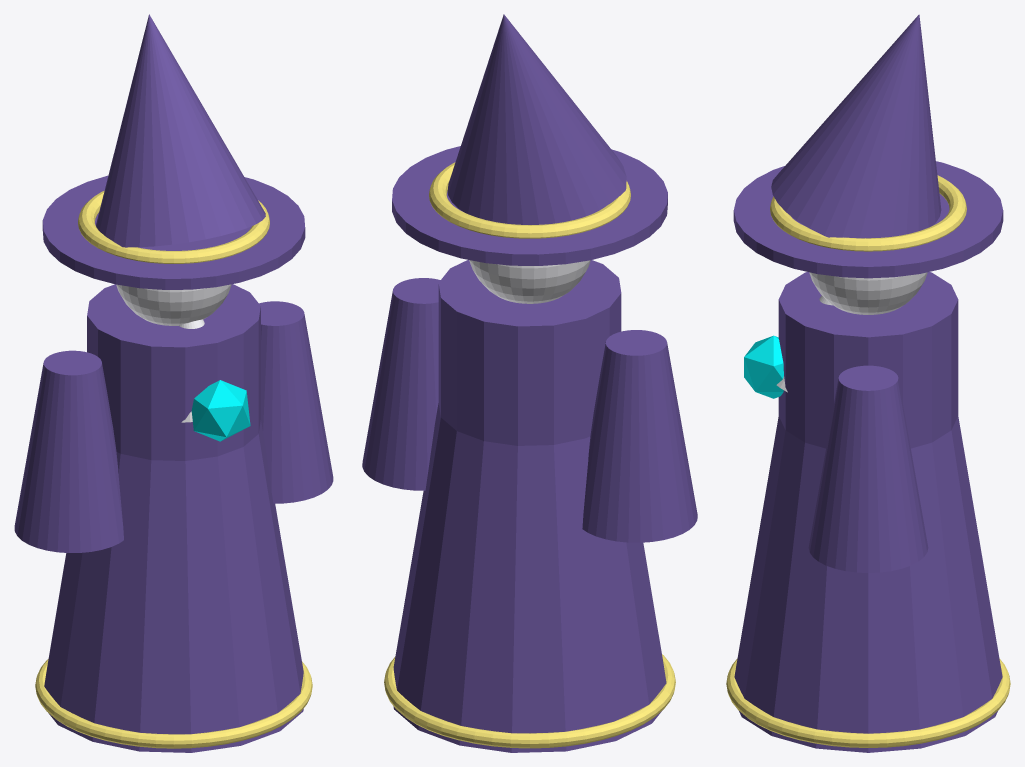
Rendered from mage.glb.
3 views of the same model, side by side, from view 1: azimuth 30°, elevation 25°; view 2: azimuth 150°, elevation 25°; view 3: azimuth 270°, elevation 25° (orthographic). The views are drawn at different scales.
Parts seen in each view (by area): view 1: Cone, Cone.002, Cylinder, Cone.003, Cylinder.001, Cone.004, Torus, Torus.001, Sphere, Icosphere; view 2: Cone, Cylinder, Cone.002, Cone.003, Cone.004, Cylinder.001, Torus, Torus.001, Sphere; view 3: Cone, Cone.002, Cylinder, Cone.004, Cylinder.001, Torus, Torus.001, Sphere, Icosphere.
Part boxes in pixels (x1,y1,x2,y2): Cone: (44,420,303,752); Cone.002: (96,14,265,247); Cylinder: (87,284,260,460); Cone.003: (14,350,123,552); Cylinder.001: (42,175,305,289); Cone.004: (259,301,333,503); Torus: (35,659,312,748); Torus.001: (78,190,269,263); Sphere: (116,284,231,325); Icosphere: (191,380,250,441); Cone: (393,403,666,752); Cylinder: (438,260,621,445); Cone.002: (447,14,626,224); Cone.003: (582,330,697,542); Cone.004: (362,278,440,490); Cylinder.001: (392,146,667,265); Torus: (384,654,675,748); Torus.001: (429,162,630,238); Sphere: (469,260,590,303); Cone: (734,416,1002,752); Cone.002: (771,14,941,238); Cylinder: (778,272,958,448); Cone.004: (808,365,928,572); Cylinder.001: (733,161,1003,278); Torus: (726,658,1010,747); Torus.001: (770,175,966,251); Sphere: (809,272,927,314); Icosphere: (744,335,783,398).
Bounding box in the file's own units: 1.44 × 3.01 × 1.14.
